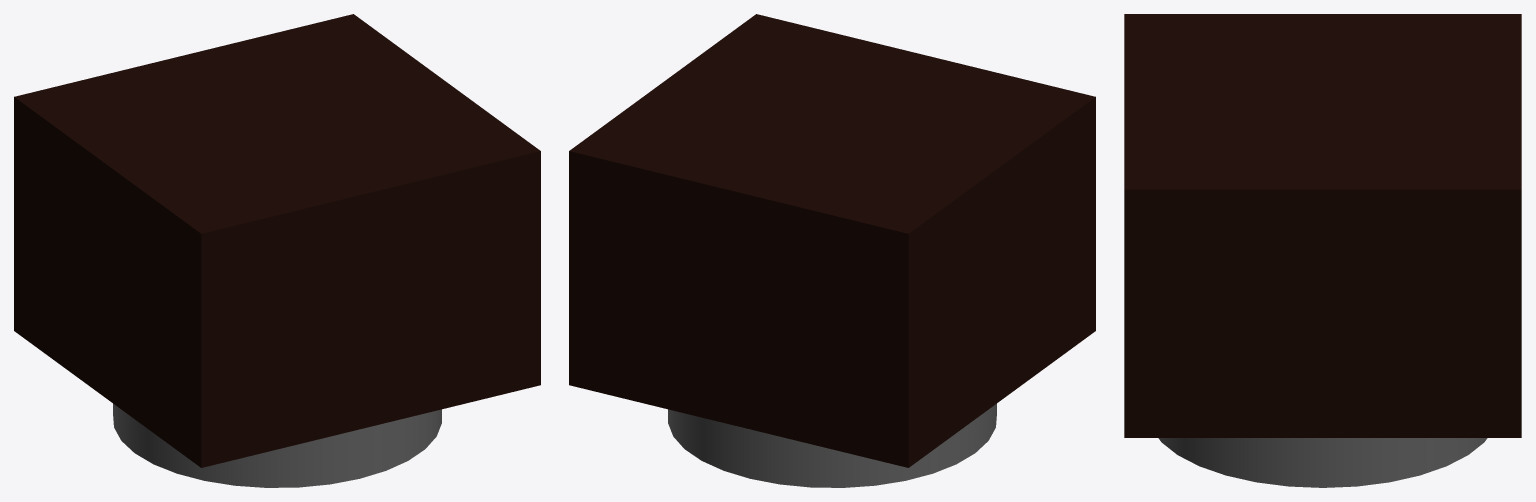
The model's file is mintBase.obj.
3 renders of one model, left to right at view 1: azimuth 30°, elevation 25°; view 2: azimuth 150°, elevation 25°; view 3: azimuth 270°, elevation 25°, orthographic. The views are drawn at different scales.
Visible parts, largest first — view 1: Cylinder; view 2: Cylinder; view 3: Cylinder.
Part boxes in pixels (left/top/right/bottom): Cylinder: left=14, top=14, right=540, bottom=487; Cylinder: left=569, top=14, right=1095, bottom=487; Cylinder: left=1124, top=14, right=1521, bottom=487.
Bounding box in the file's own units: 1.75 × 1.45 × 1.67.
